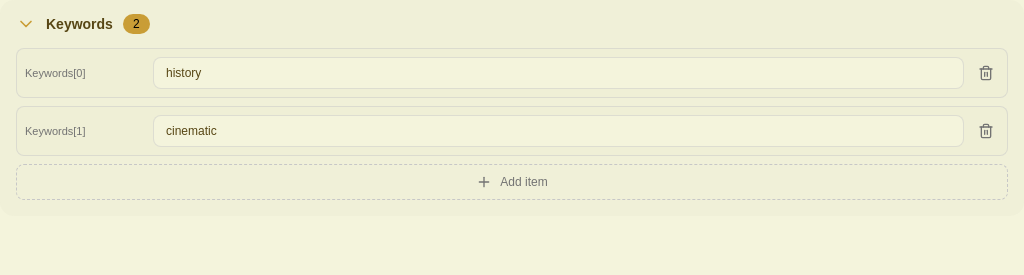
it: InputsPanel array input rendering › renders itemType=string arrays as vertical list with add/remove controls when ungrouped
Expected: the text "Keywords[0]" is shown, [25, 67, 86, 79]
Expected: the text "Keywords[1]" is shown, [25, 125, 86, 137]
Click the button "Add item" at (512, 182), box [16, 164, 1008, 200]
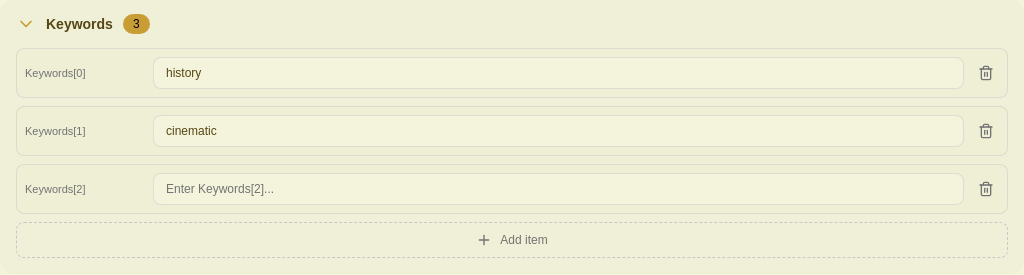
Expected: the number of fields is 3, [153, 57, 964, 89]; [153, 115, 964, 147]; [153, 173, 964, 205]
Click the button titled "Remove item" at (986, 73), box [972, 57, 999, 89]
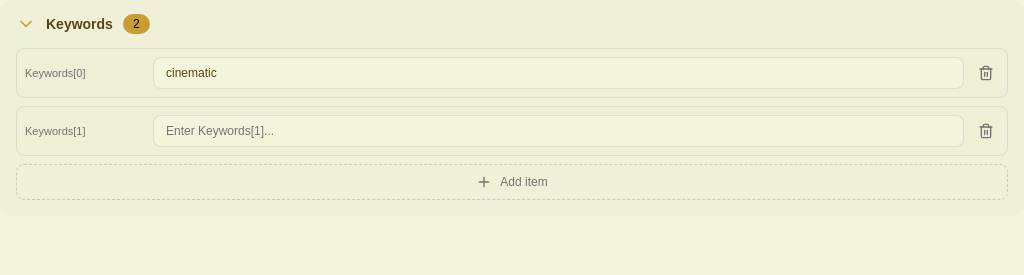
Expected: the number of fields is 2, [153, 57, 964, 89]; [153, 115, 964, 147]
